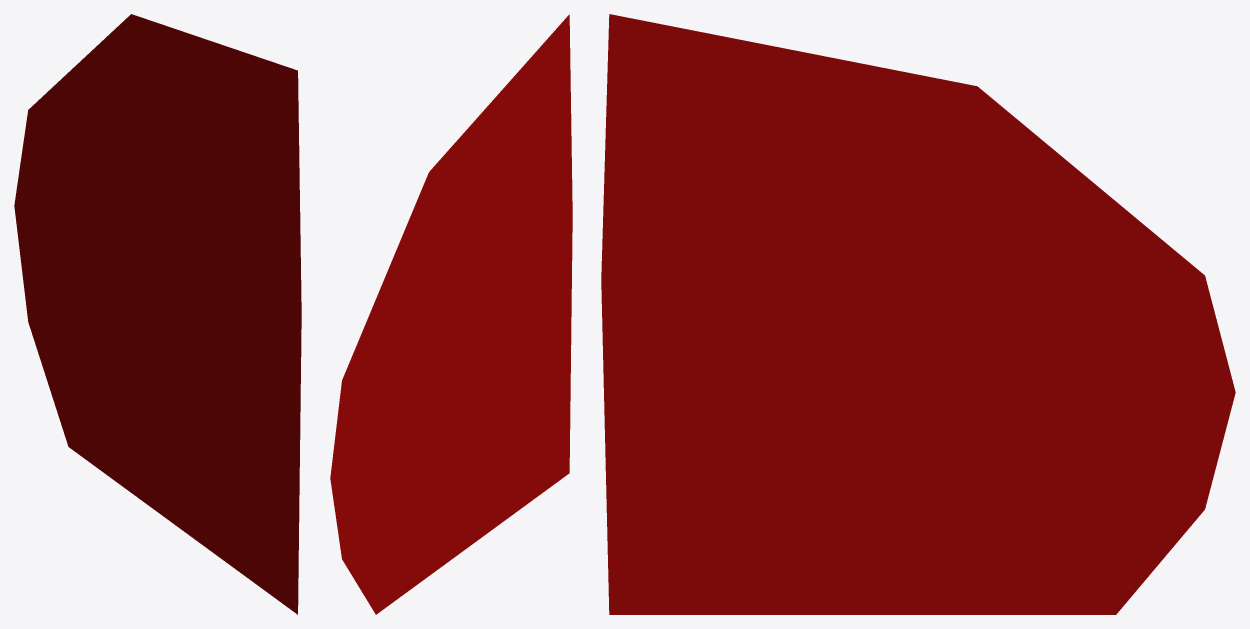
File: c_tunnel_cap.fbx
The picture shows the model from 3 angles, left to right: view 1: azimuth 30°, elevation 25°; view 2: azimuth 150°, elevation 25°; view 3: azimuth 270°, elevation 25°; orthographic projection. The views are drawn at different scales.
Visible parts, largest first — view 1: coll_tunnel_cap; view 2: coll_tunnel_cap; view 3: coll_tunnel_cap.
Boxes of the visible parts, x1,y1,x2,y2 form: coll_tunnel_cap: (14,14,301,614); coll_tunnel_cap: (330,14,572,614); coll_tunnel_cap: (601,14,1235,614).
Size of the model in its own units: 0.000572 by 1270 by 1215.
